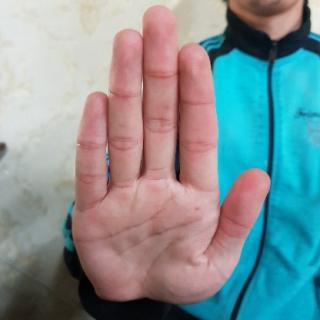SEEN: (66, 0, 277, 311)
